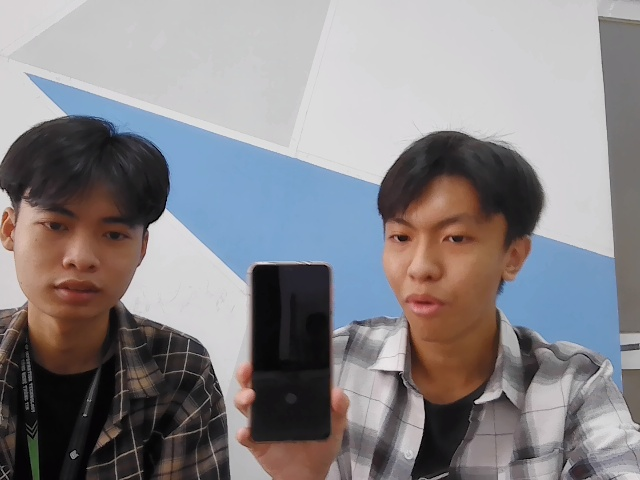human: (377, 126, 544, 341), (2, 115, 163, 326)
phone: (243, 256, 339, 445)
